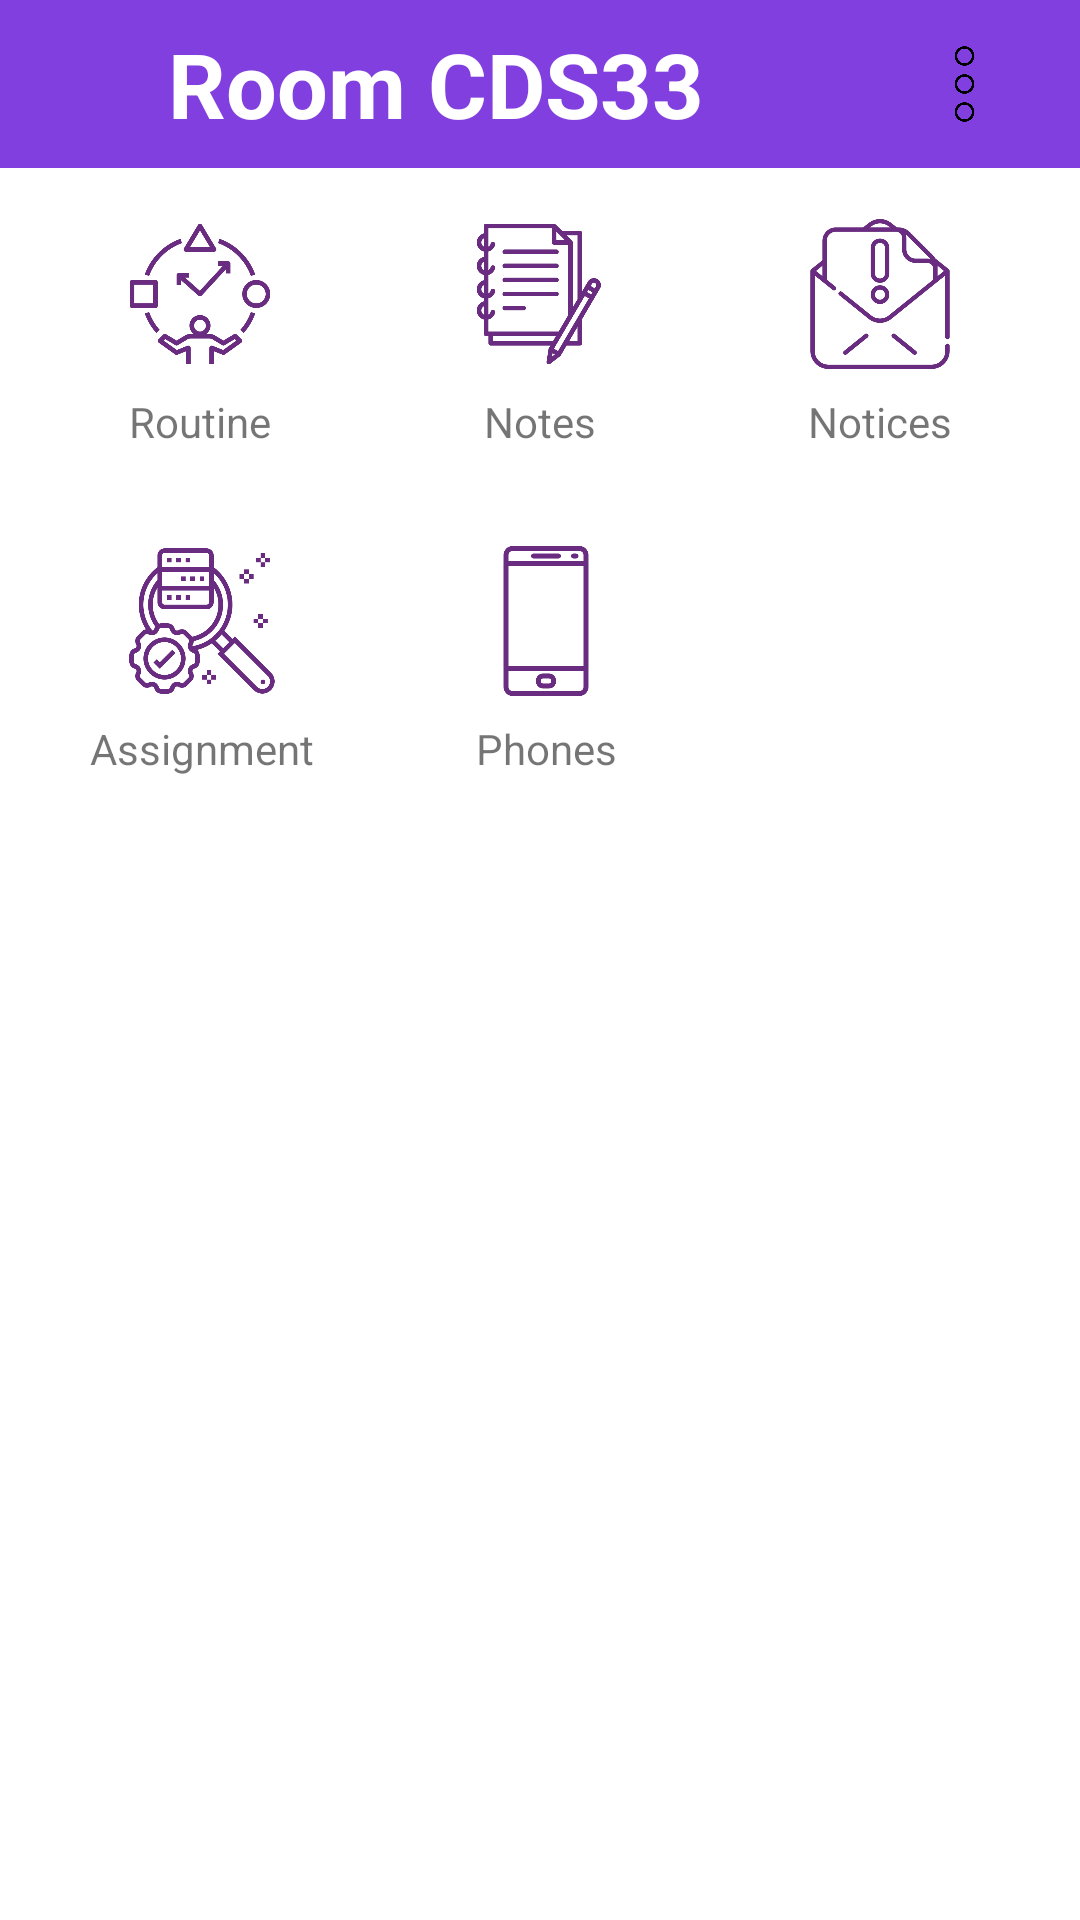

Screen size 1080*1920. Icon name, then its center in pixels as point (x, y):
data: point (202, 621)
planner: point (200, 294)
